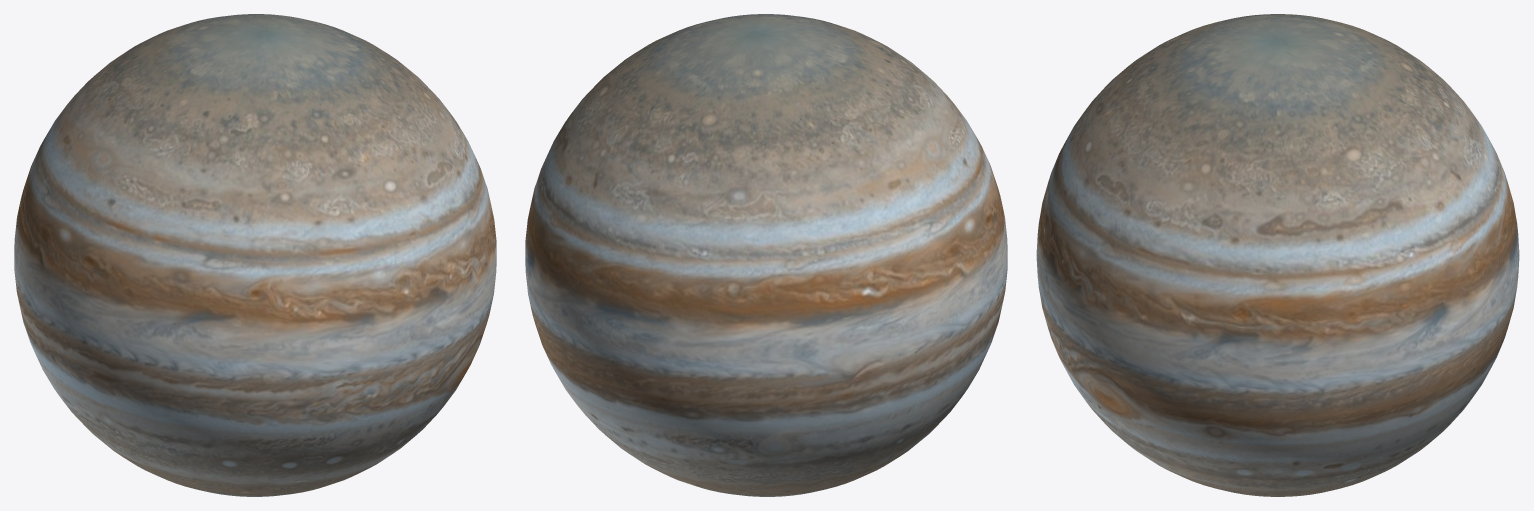
The model's file is jupiter.glb.
3 renders of one model, left to right at view 1: azimuth 30°, elevation 25°; view 2: azimuth 150°, elevation 25°; view 3: azimuth 270°, elevation 25°, orthographic.
Parts seen in each view (by area): view 1: jupiter; view 2: jupiter; view 3: jupiter.
Boxes of the visible parts, x1=… form: jupiter: x1=14, y1=14, x2=496, y2=496; jupiter: x1=525, y1=14, x2=1007, y2=496; jupiter: x1=1036, y1=14, x2=1519, y2=496.
Size of the model in its own units: 2 by 2 by 2.
Materials: 1 (1 with a texture image).
